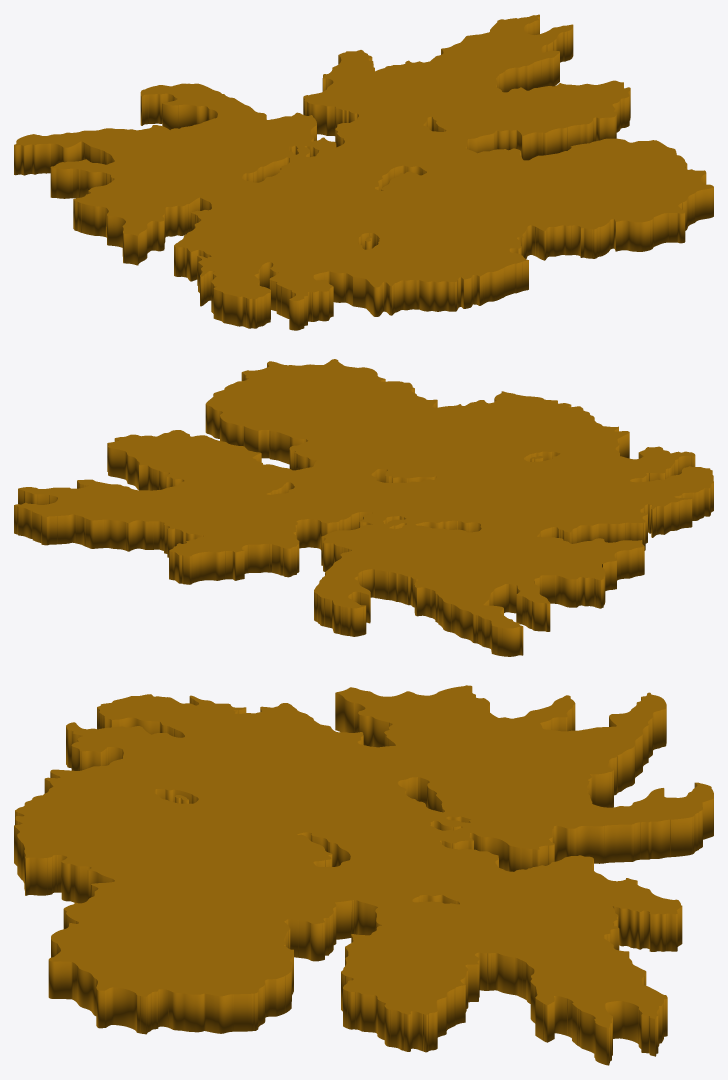
Rendered from Grailhold-map-hexcutout-04.glb.
The picture shows the model from 3 angles, top to bottom: view 1: azimuth 30°, elevation 25°; view 2: azimuth 150°, elevation 25°; view 3: azimuth 270°, elevation 25°; orthographic projection. The views are drawn at different scales.
Parts seen in each view (by area): view 1: Plane.153, Plane.330, Plane.014, Plane.019, Plane.277, Plane.110, Plane.120, Plane.220, Plane.028, Plane.009, Plane.004, Plane.396 (+37 smaller); view 2: Plane.404, Plane.268, Plane.230, Plane.387, Plane.259, Plane.359, Plane.341, Plane.249, Plane.355, Plane.014, Plane.144, Plane.007 (+31 smaller); view 3: Plane.402, Plane.178, Plane.166, Plane.419, Plane.290, Plane.403, Plane.401, Plane.369, Plane.400, Plane.307, Plane.409, Plane.412 (+47 smaller).
Boxes of the visible parts, x1=… form: Plane.153: x1=418, y1=274, x2=450, y2=311; Plane.330: x1=615, y1=214, x2=645, y2=251; Plane.014: x1=51, y1=161, x2=82, y2=198; Plane.019: x1=222, y1=286, x2=253, y2=327; Plane.277: x1=540, y1=220, x2=571, y2=259; Plane.110: x1=346, y1=268, x2=376, y2=309; Plane.120: x1=369, y1=274, x2=401, y2=315; Plane.220: x1=491, y1=256, x2=522, y2=297; Plane.028: x1=246, y1=292, x2=270, y2=328; Plane.009: x1=124, y1=226, x2=147, y2=265; Plane.004: x1=82, y1=202, x2=106, y2=236; Plane.396: x1=687, y1=184, x2=713, y2=223; Plane.404: x1=32, y1=506, x2=62, y2=545; Plane.268: x1=196, y1=546, x2=224, y2=581; Plane.230: x1=269, y1=541, x2=296, y2=577; Plane.387: x1=57, y1=512, x2=85, y2=546; Plane.259: x1=219, y1=541, x2=247, y2=580; Plane.359: x1=102, y1=512, x2=132, y2=550; Plane.341: x1=126, y1=518, x2=153, y2=551; Plane.249: x1=243, y1=535, x2=273, y2=573; Plane.355: x1=243, y1=420, x2=273, y2=458; Plane.014: x1=525, y1=592, x2=549, y2=631; Plane.144: x1=360, y1=564, x2=391, y2=599; Plane.007: x1=572, y1=569, x2=602, y2=607; Plane.402: x1=168, y1=983, x2=208, y2=1032; Plane.178: x1=602, y1=817, x2=640, y2=863; Plane.166: x1=633, y1=809, x2=673, y2=859; Plane.419: x1=390, y1=1006, x2=425, y2=1051; Plane.290: x1=633, y1=900, x2=673, y2=951; Plane.403: x1=108, y1=983, x2=146, y2=1033; Plane.401: x1=230, y1=983, x2=263, y2=1031; Plane.369: x1=48, y1=953, x2=84, y2=1002; Plane.400: x1=354, y1=983, x2=394, y2=1033; Plane.307: x1=292, y1=907, x2=331, y2=959; Plane.409: x1=205, y1=991, x2=233, y2=1033; Plane.412: x1=606, y1=998, x2=642, y2=1046.
Bounding box in the file's own units: 13.54 × 0.6912 × 11.69.
